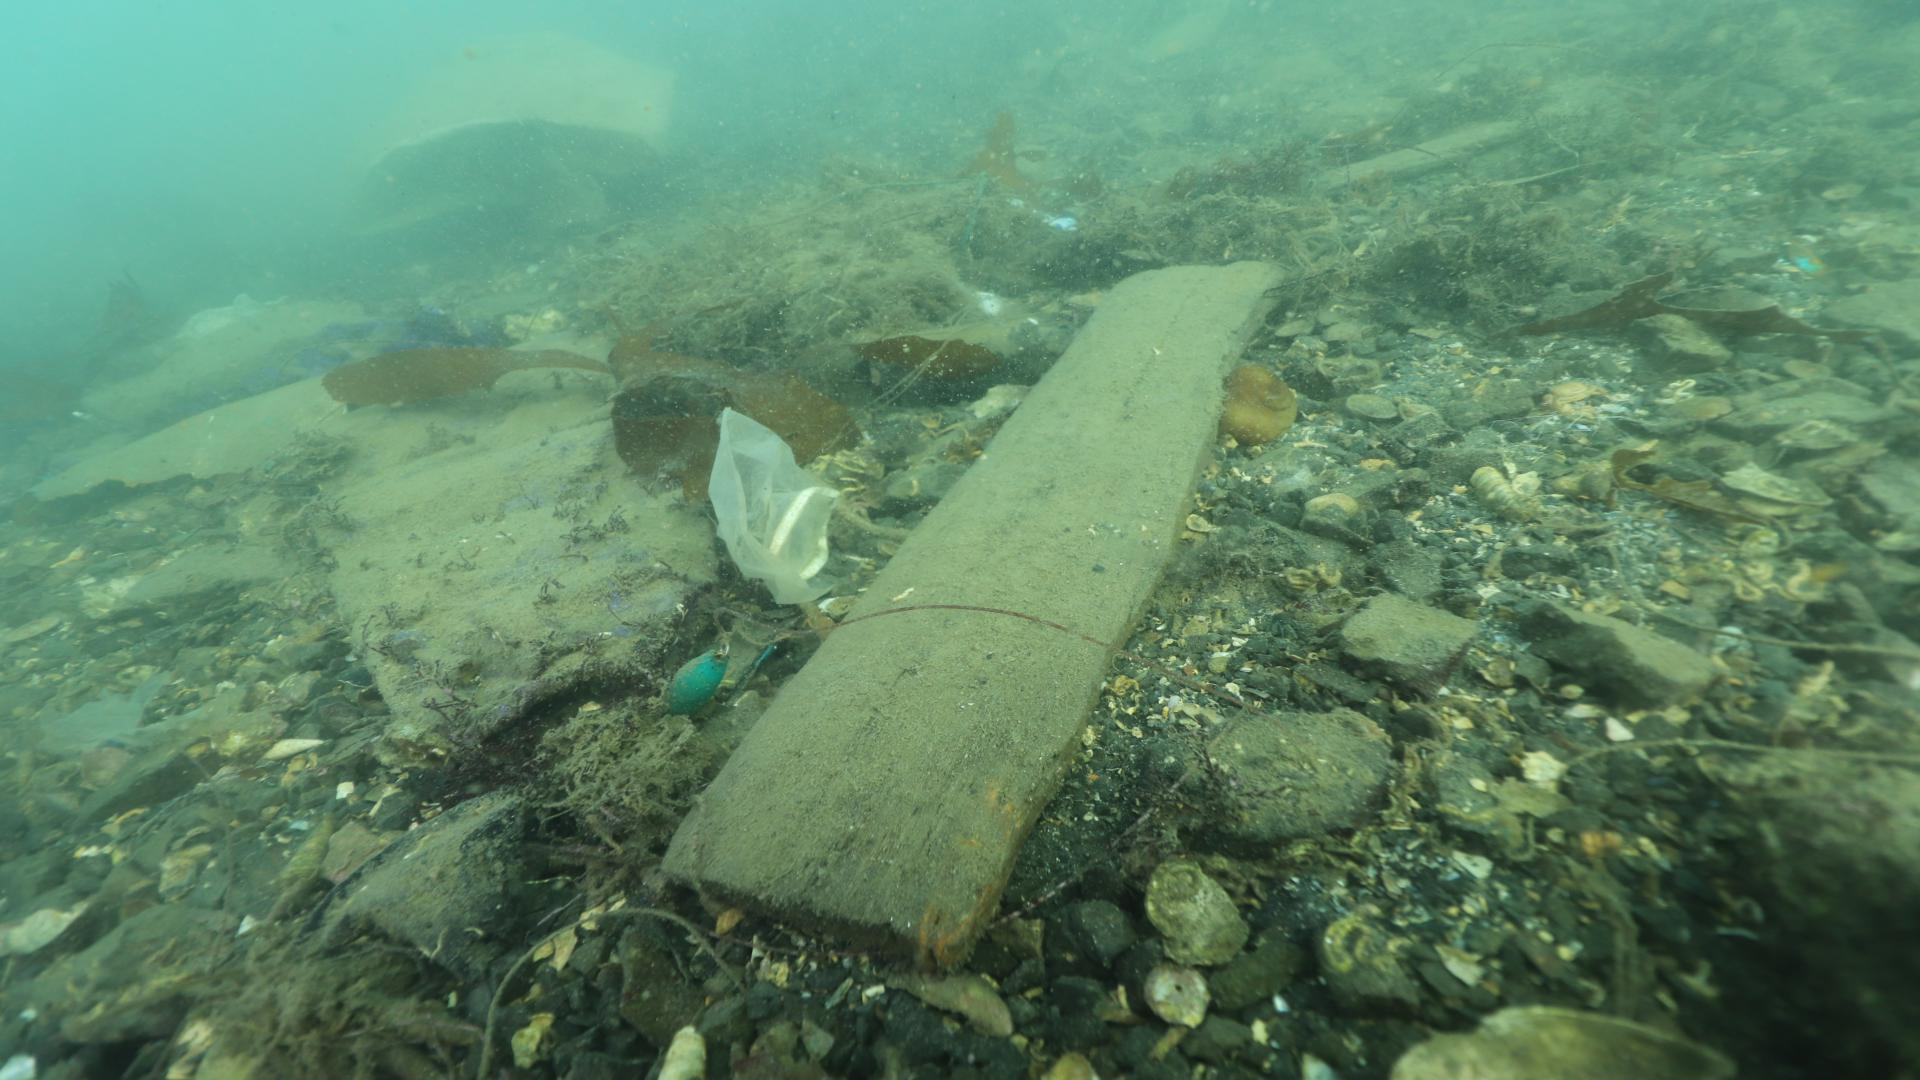wood: (658, 258, 1287, 961)
